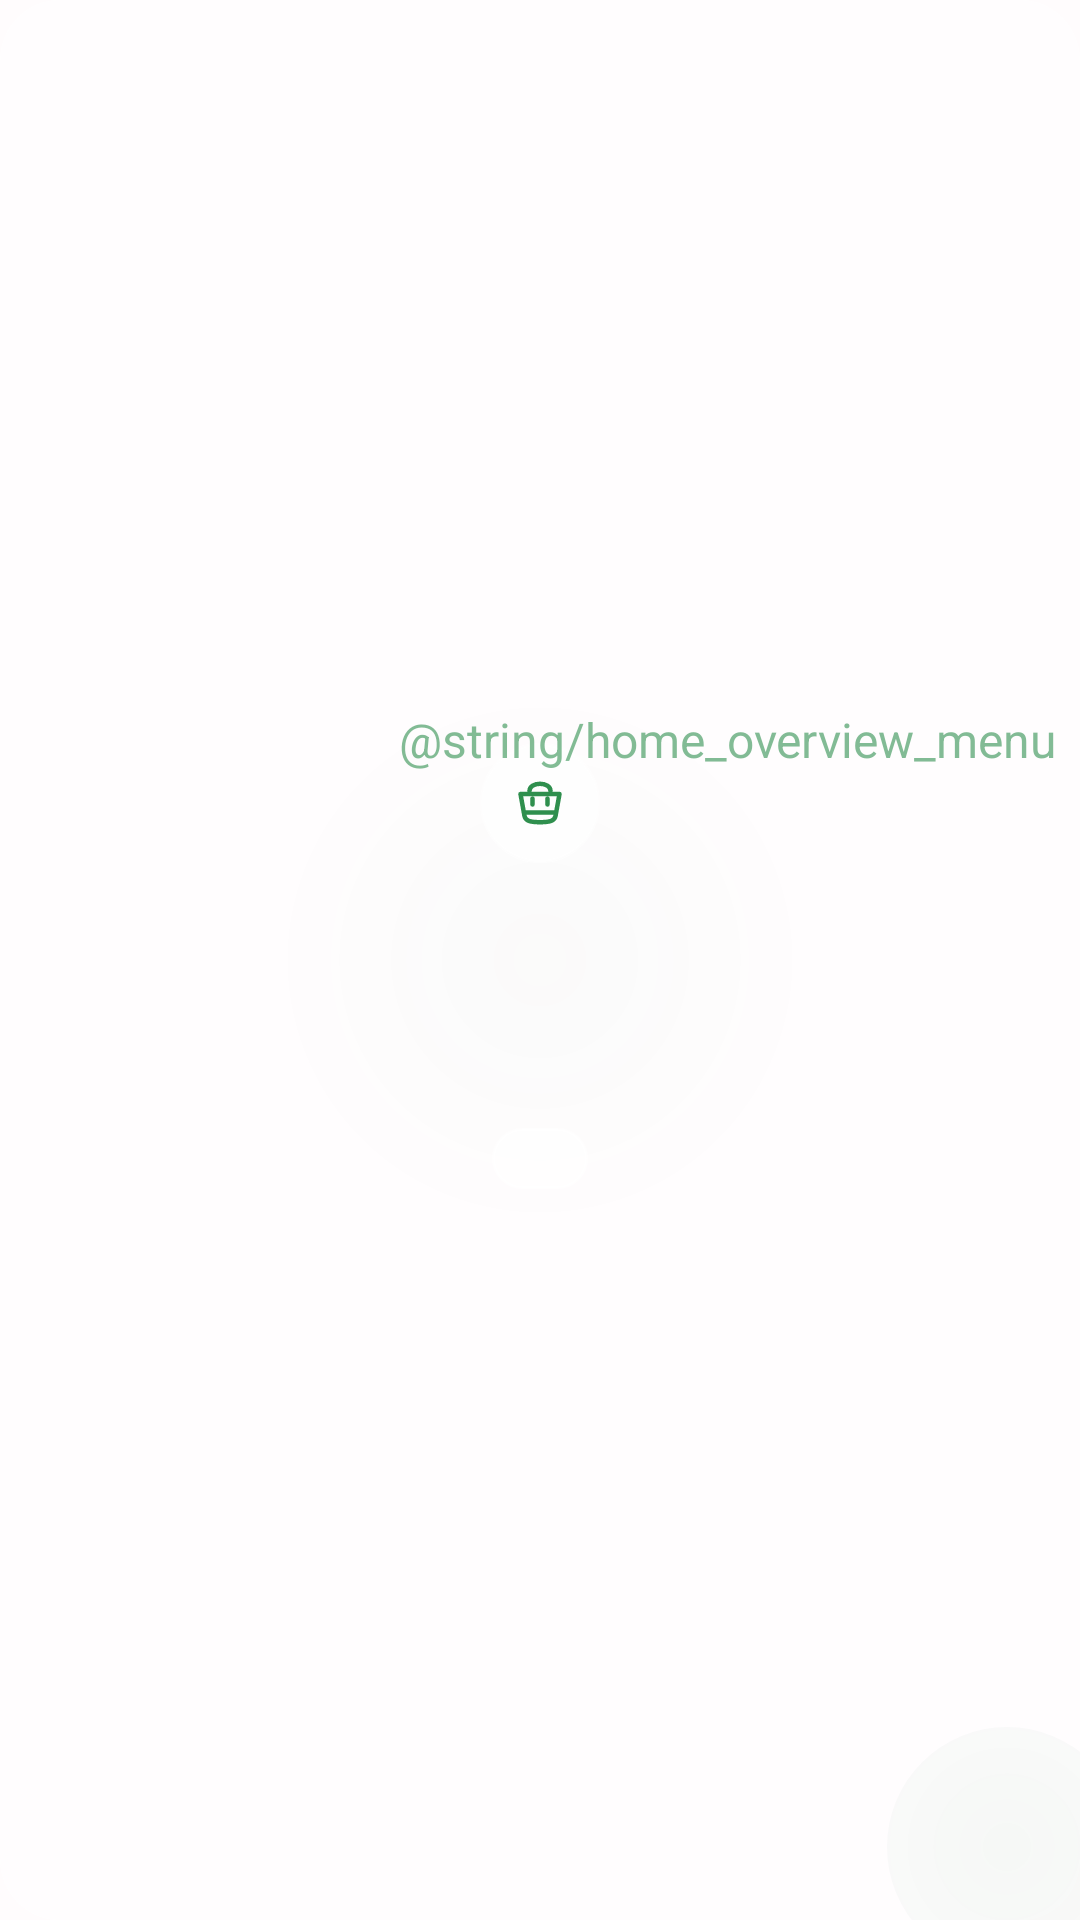

Point at icon controls on the screen. Image size 1080 × 1920, points as (x,y).
basket: (540,803)
